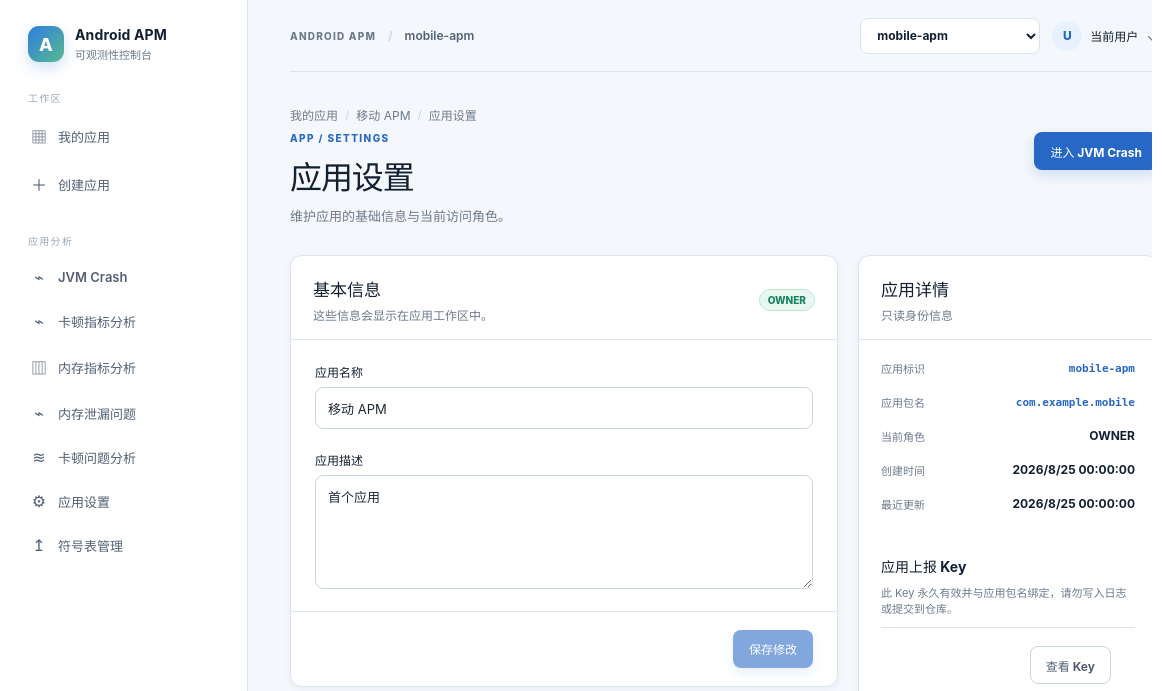
AppSettingsView › loads editable metadata and shows save feedback
Step 1. Replace the text in the field with id "settings-name" with "移动 APM 生产" → (564, 408), box [315,387,813,429]
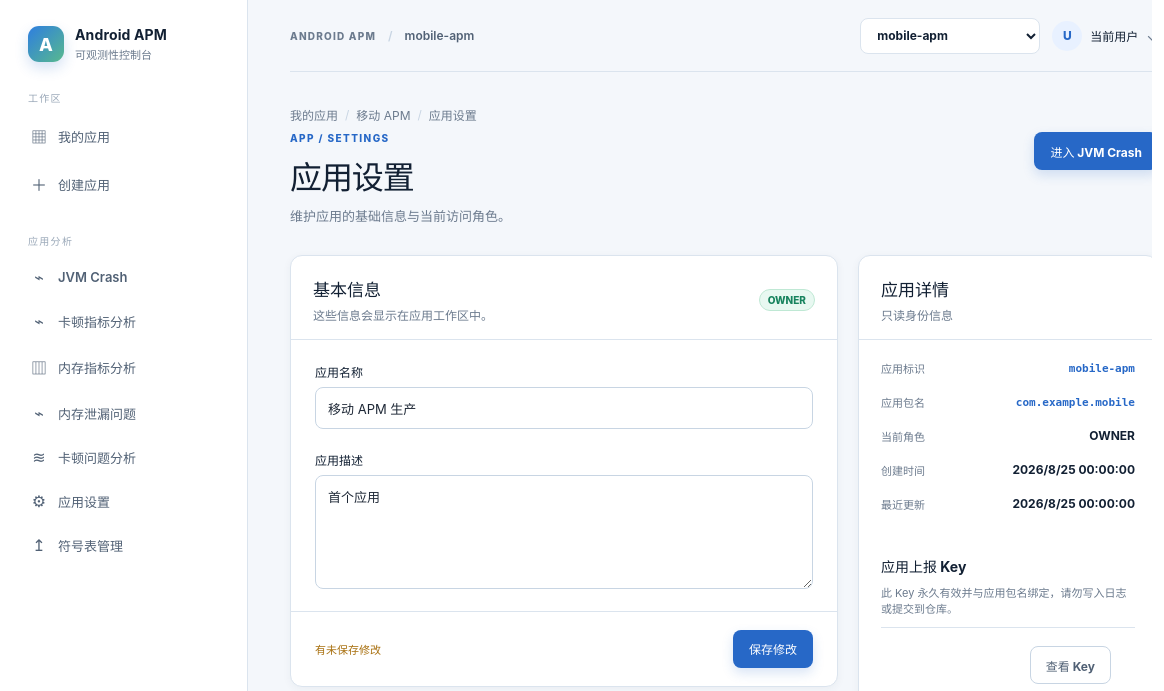
Step 2. Replace the text in the text box with id "settings-description" with "已更新" → (564, 532), box [315,475,813,589]
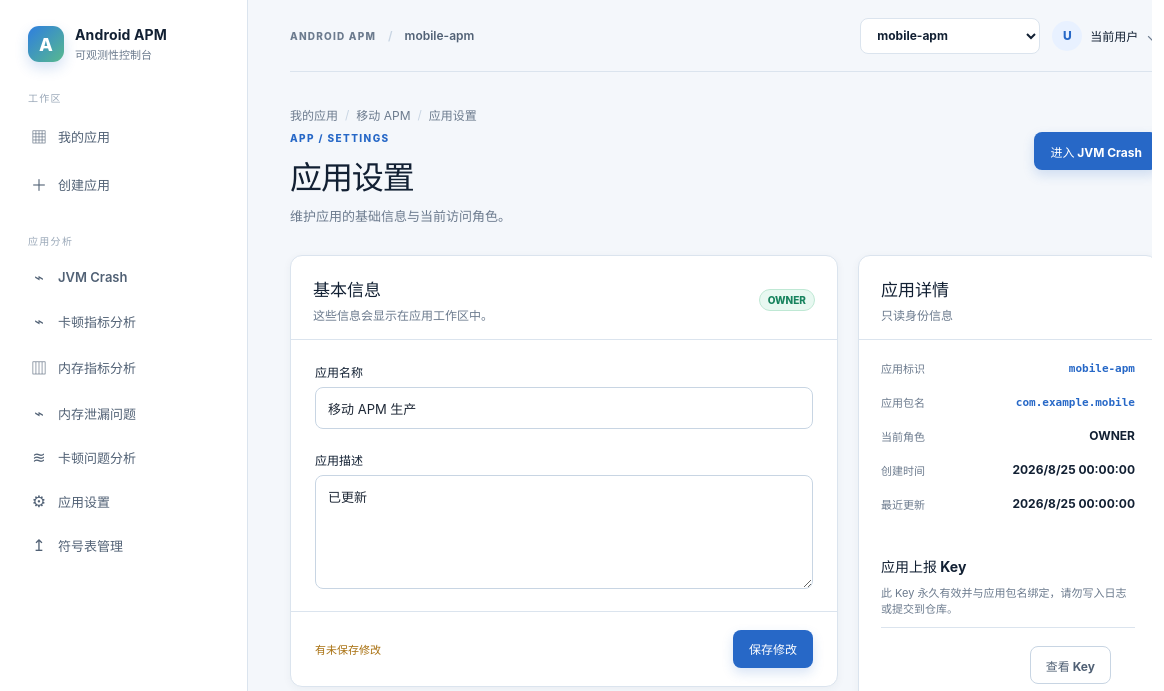
Step 3. Submit the form, box [290,255,838,687]
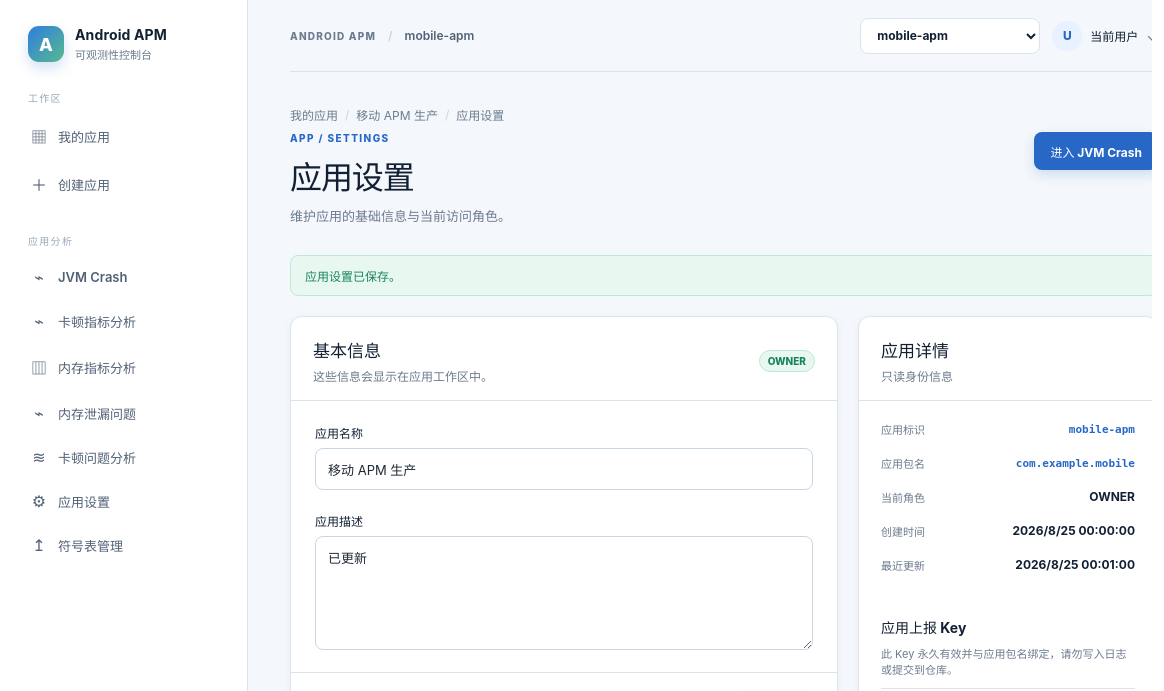
Check: the text "应用设置已保存" is shown, box [305,269,401,284]
